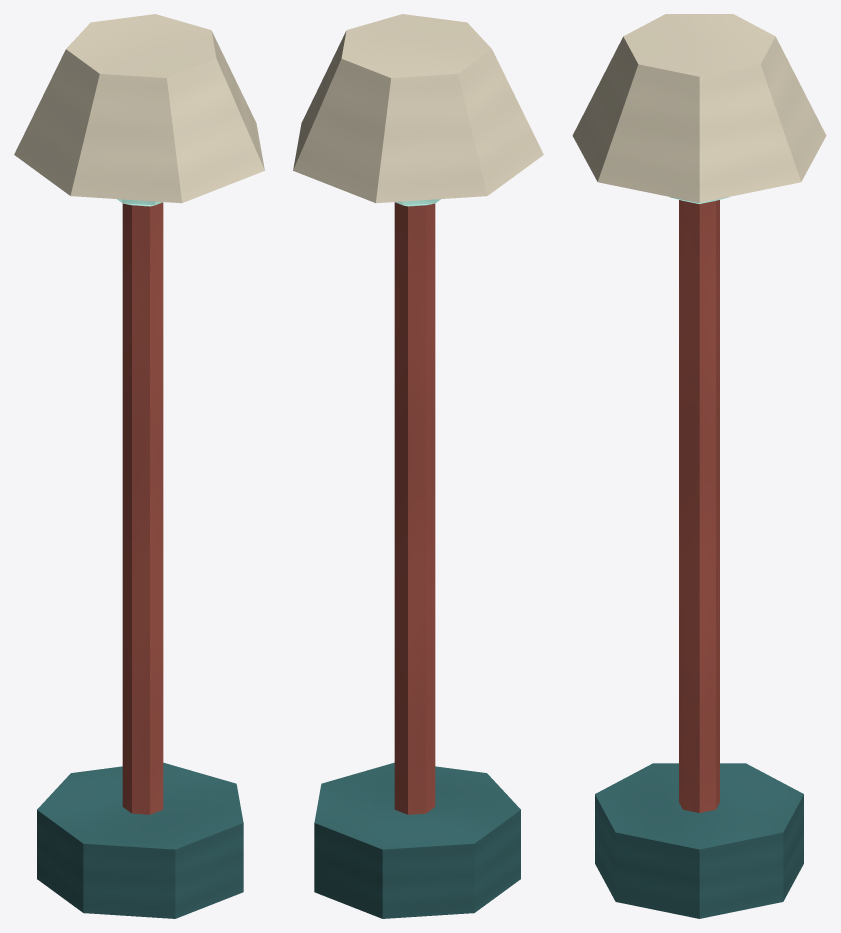
Rendered from atlas100-porcelain-util01.lod1.glb.
The picture shows the model from 3 angles, left to right: view 1: azimuth 30°, elevation 25°; view 2: azimuth 150°, elevation 25°; view 3: azimuth 270°, elevation 25°; orthographic projection.
Parts seen in each view (by area): view 1: atlas100-porcelain-util01:part-002, atlas100-porcelain-util01:part-000, atlas100-porcelain-util01:part-001; view 2: atlas100-porcelain-util01:part-002, atlas100-porcelain-util01:part-000, atlas100-porcelain-util01:part-001; view 3: atlas100-porcelain-util01:part-002, atlas100-porcelain-util01:part-000, atlas100-porcelain-util01:part-001.
Boxes of the visible parts, bbox=[...] form: atlas100-porcelain-util01:part-002: bbox=[14, 14, 264, 203]; atlas100-porcelain-util01:part-000: bbox=[37, 762, 243, 918]; atlas100-porcelain-util01:part-001: bbox=[122, 202, 163, 814]; atlas100-porcelain-util01:part-002: bbox=[293, 14, 543, 203]; atlas100-porcelain-util01:part-000: bbox=[314, 762, 520, 918]; atlas100-porcelain-util01:part-001: bbox=[394, 202, 435, 814]; atlas100-porcelain-util01:part-002: bbox=[572, 14, 826, 202]; atlas100-porcelain-util01:part-000: bbox=[595, 763, 803, 918]; atlas100-porcelain-util01:part-001: bbox=[679, 200, 719, 812].
Bounding box in the file's own units: 0.7207 × 2.66 × 0.7392.
4 materials, 4 textured.
